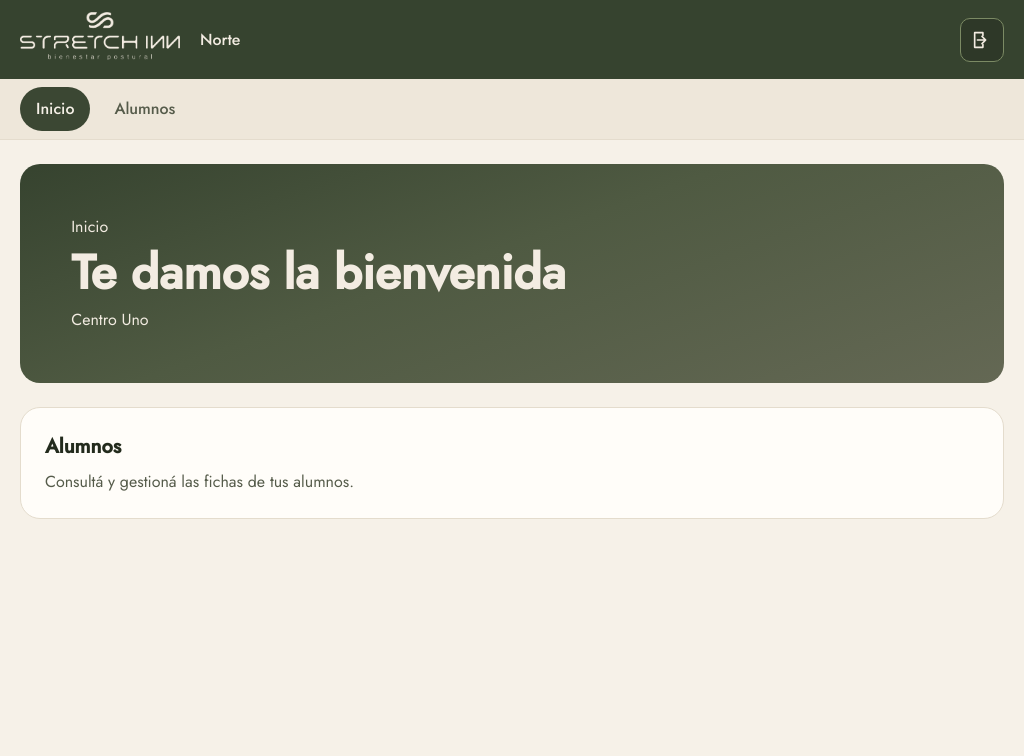
it: antecedentes y patologías › sin personas.ver-salud no aparecen ni se piden
Click the link "Alumnos": (145, 109) [114,97,175,120]
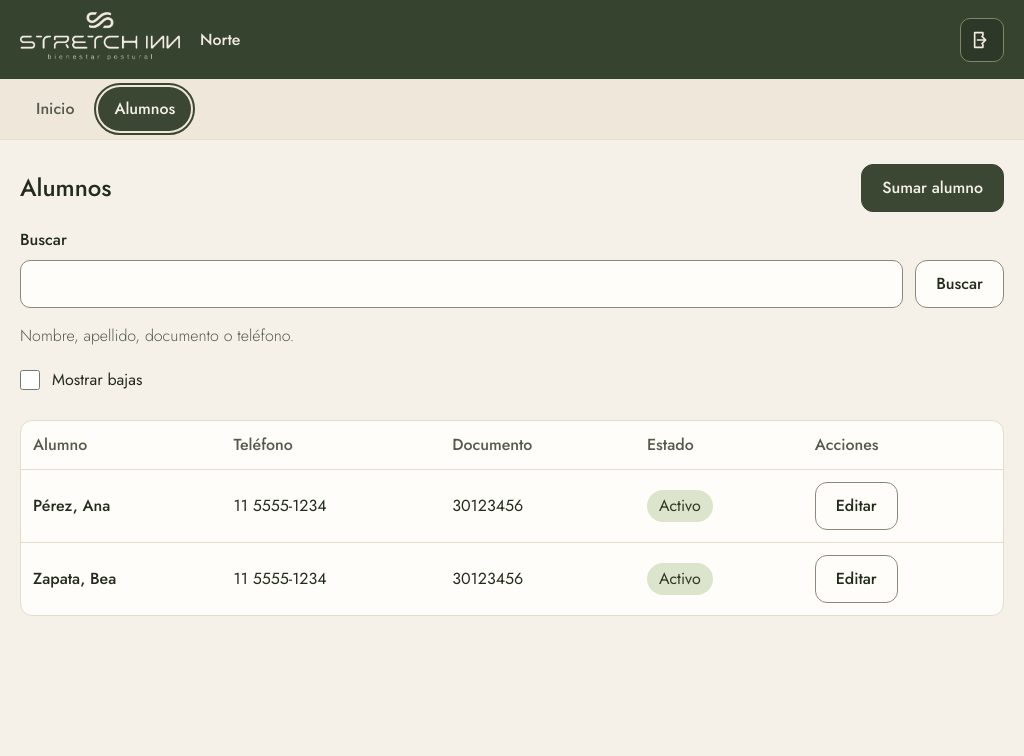
Expected: the heading "Alumnos" is shown, [20,170,111,206]
Click the button "Editar" in the row of "Pérez": (856, 506) [815,482,898,530]
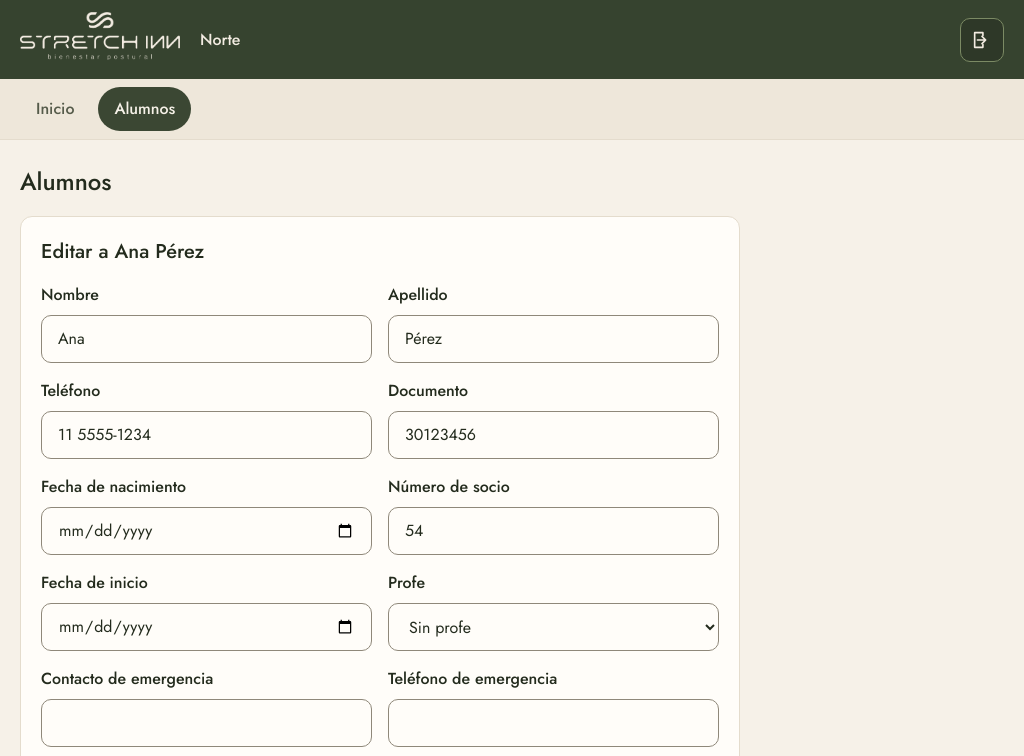
Now the heading "Editar a Ana Pérez" is shown, box [41,237,204,266]
